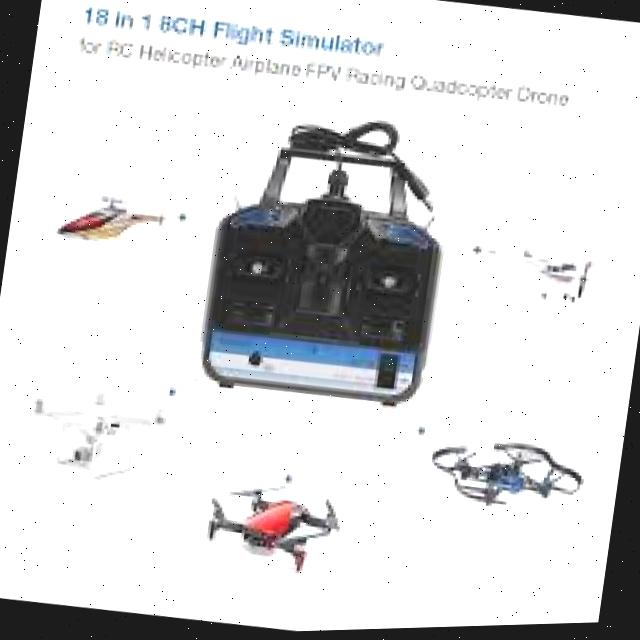drone: (2, 353, 186, 511), (185, 453, 362, 596), (413, 423, 607, 533), (444, 218, 616, 325)
